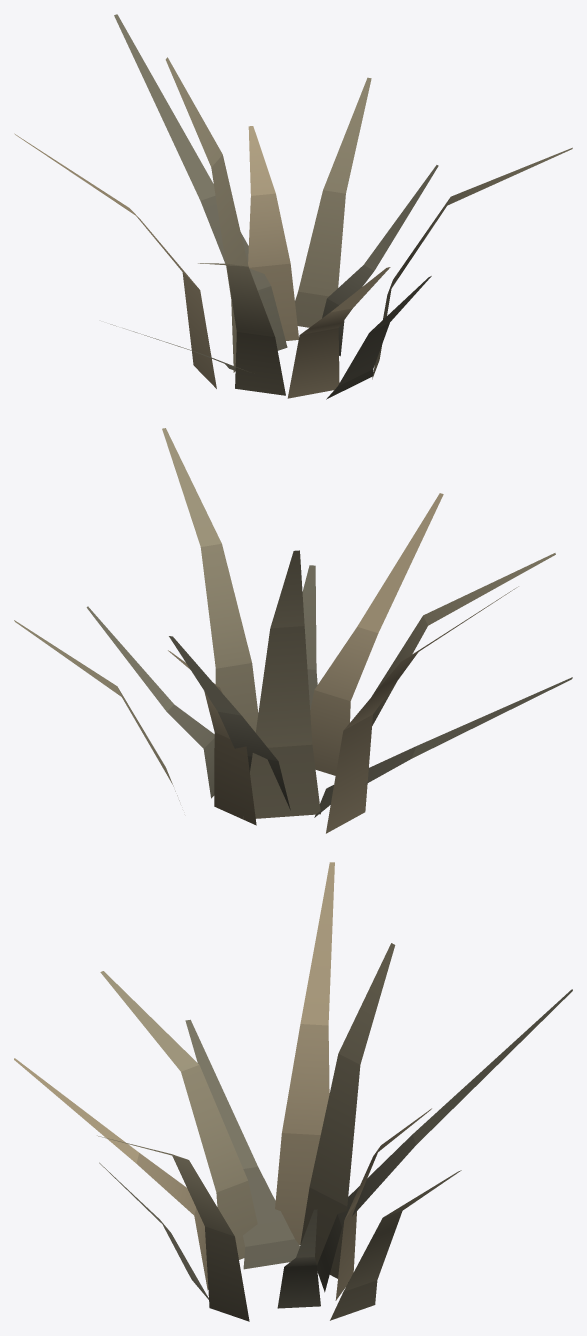
The model's file is volcanoes-ground-detail.glb.
3 renders of one model, top to bottom at view 1: azimuth 30°, elevation 25°; view 2: azimuth 150°, elevation 25°; view 3: azimuth 270°, elevation 25°, orthographic. The views are drawn at different scales.
Parts seen in each view (by area): view 1: volcanoes; view 2: volcanoes; view 3: volcanoes.
Part boxes in pixels (box(x1,y1,x2,y2)): volcanoes: box(14, 14, 572, 399); volcanoes: box(14, 428, 572, 833); volcanoes: box(14, 862, 572, 1321).
Size of the model in its own units: 0.6019 by 0.369 by 0.6166.
